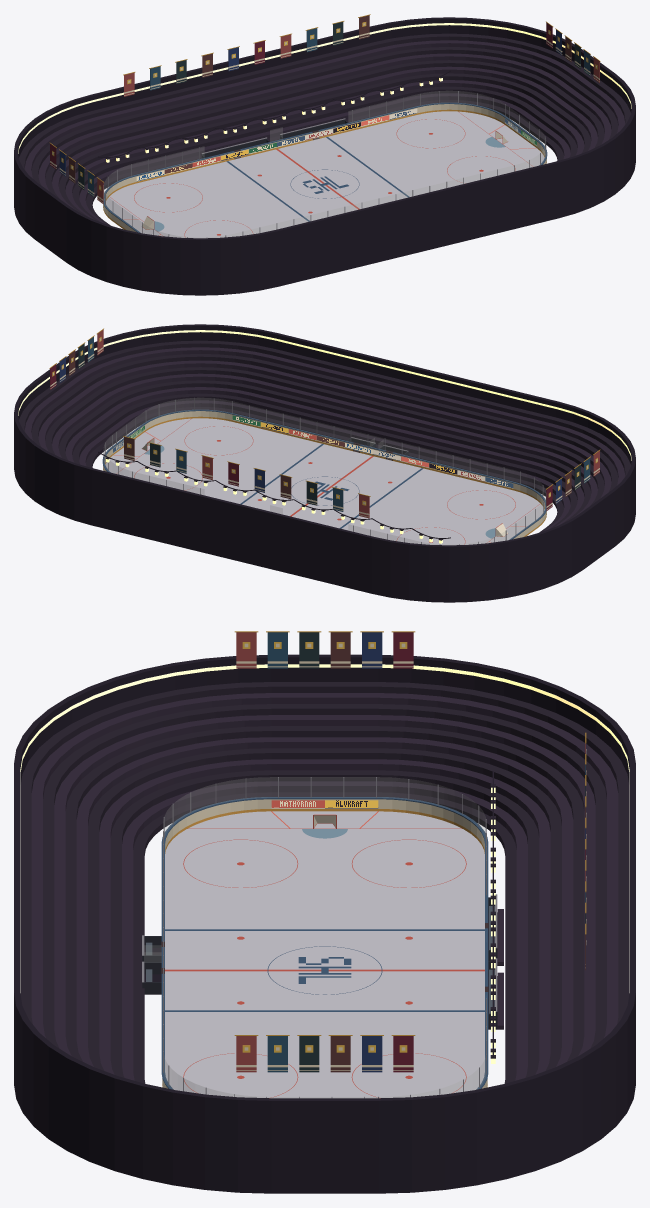
File: arena.glb
3 views of the same model, one above another, from view 1: azimuth 30°, elevation 25°; view 2: azimuth 150°, elevation 25°; view 3: azimuth 270°, elevation 25° (orthographic). The views are drawn at different scales.
Parts seen in each view (by area): view 1: Stands, Ice, Glass, Banners, Boards, AdBoards, Markings, LED, Lanterns, Bench, Posts; view 2: Stands, Ice, Glass, Banners, Boards, AdBoards, LED, Markings, Lanterns, Posts; view 3: Stands, Ice, Banners, Glass, Boards, Markings, LED, Bench, Lanterns, PenaltyBox, Posts, AdBoards.
Boxes of the visible parts, x1,y1,x2,y2 form: Stands: [14, 17, 635, 295]; Ice: [106, 111, 544, 238]; Glass: [104, 91, 545, 237]; Banners: [49, 14, 600, 203]; Boards: [103, 102, 547, 232]; AdBoards: [136, 108, 536, 181]; Markings: [109, 112, 533, 237]; LED: [18, 23, 631, 153]; Lanterns: [98, 70, 450, 162]; Bench: [201, 118, 347, 158]; Posts: [103, 91, 546, 237]; Stands: [14, 324, 635, 602]; Ice: [105, 418, 544, 545]; Glass: [104, 398, 545, 544]; Banners: [49, 328, 600, 518]; Boards: [102, 409, 546, 539]; AdBoards: [113, 415, 513, 488]; LED: [18, 330, 631, 460]; Markings: [116, 419, 540, 544]; Lanterns: [98, 451, 450, 543]; Posts: [103, 398, 546, 544]; Stands: [14, 654, 635, 1193]; Ice: [165, 811, 484, 1098]; Banners: [234, 631, 586, 1072]; Glass: [144, 777, 485, 1097]; Boards: [161, 797, 488, 1089]; Markings: [165, 828, 484, 1098]; LED: [20, 664, 629, 992]; Bench: [488, 894, 503, 1029]; Lanterns: [490, 771, 495, 1063]; PenaltyBox: [142, 935, 161, 994]; Posts: [163, 777, 486, 1098]; AdBoards: [271, 800, 378, 808].
Size of what is drawn, in the model's own units: 84 by 12.11 by 49.5.
40 materials, 1 textured.
